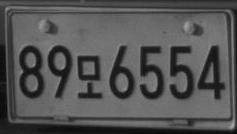4: (197, 45, 225, 99)
5: (139, 45, 164, 99), (168, 45, 193, 99)
6: (108, 45, 135, 99)
8: (18, 44, 44, 98)
9: (46, 44, 72, 99)
모: (76, 54, 103, 99)
